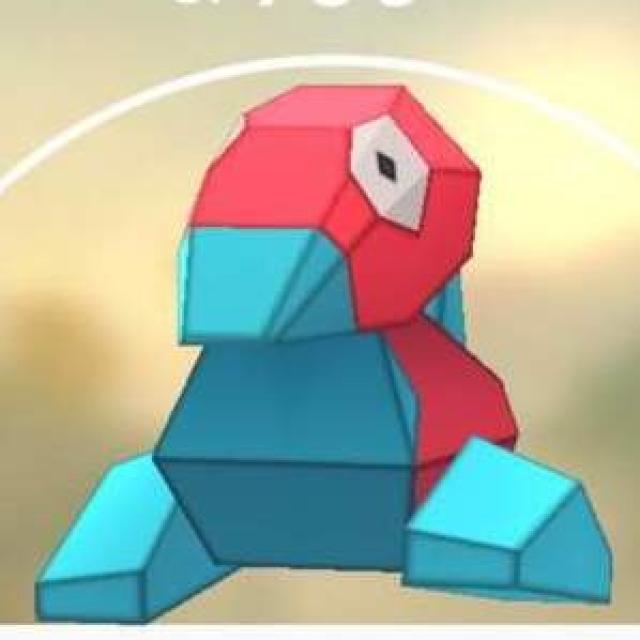Porygon: (146, 67, 532, 585)
